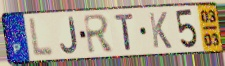5: (174, 8, 198, 50)
J: (59, 16, 79, 55)
K: (147, 11, 173, 50)
L: (28, 16, 55, 59)
R: (82, 13, 116, 56)
T: (113, 13, 136, 52)
